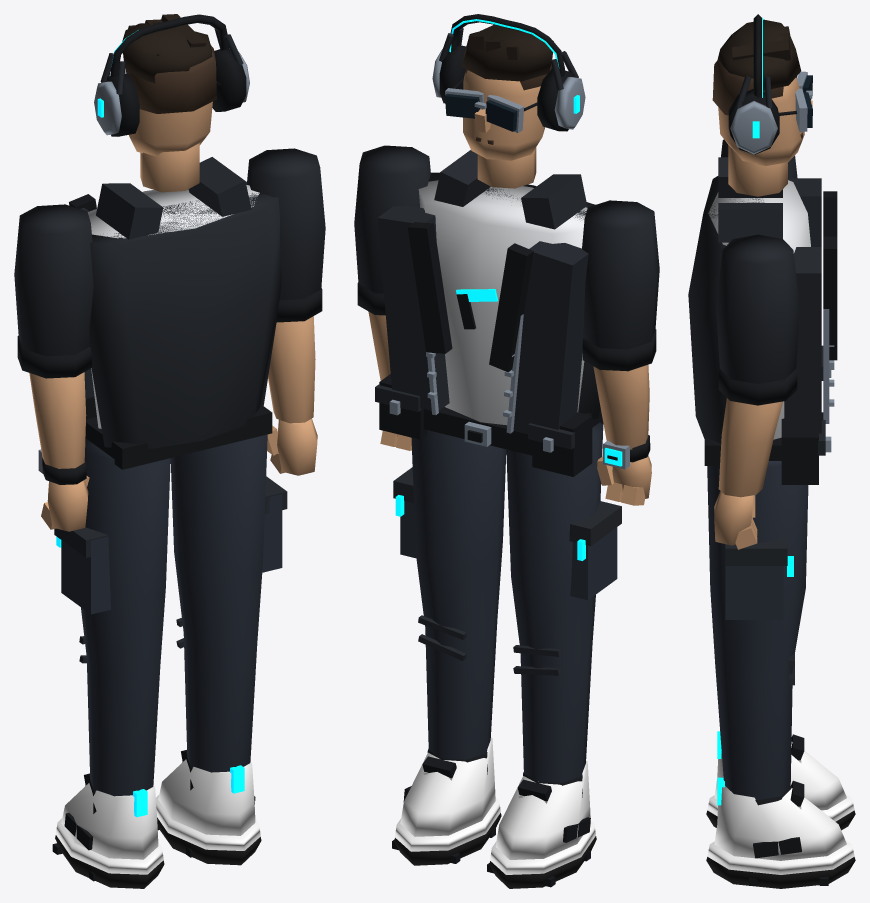
File: main-player.glb
3 views of the same model, side by side, from view 1: azimuth 30°, elevation 25°; view 2: azimuth 150°, elevation 25°; view 3: azimuth 270°, elevation 25° (orthographic). The views are drawn at different scales.
Visible parts, largest first — view 1: TaperedCargoJogger (×2), JacketBack, BomberSleeve (×2), HighTopSneaker (×2), DefinedForearm (×2), RaisedCollar (×2), ThighCargoPocket (×2), CurledHandPalm (×2), WhiteMidsole (×2), UndercutFade, SweptHairCrown, TacticalBelt (+10 smaller); view 2: TaperedCargoJogger (×2), OpenJacketFront (×2), BomberSleeve (×2), FittedTShirt, HighTopSneaker (×2), SculptedLapel (×2), DefinedForearm (×2), RaisedCollar (×2), SculptedFace, UtilityPouch (×2), WhiteMidsole (×2), SweptHairCrown (+14 smaller); view 3: TaperedCargoJogger, BomberSleeve, HighTopSneaker (×2), OpenJacketFront (×2), JacketBack, DefinedForearm, ThighCargoPocket, RaisedCollar (×2), WhiteMidsole (×2), SweptHairCrown, SculptedFace, FittedTShirt (+17 smaller).
Part boxes in pixels (bbox=[...]): TaperedCargoJogger (×2): bbox=[81, 434, 267, 796]; JacketBack: bbox=[89, 193, 281, 449]; BomberSleeve (×2): bbox=[14, 148, 325, 356]; HighTopSneaker (×2): bbox=[61, 759, 255, 859]; DefinedForearm (×2): bbox=[29, 316, 315, 468]; RaisedCollar (×2): bbox=[96, 157, 251, 239]; ThighCargoPocket (×2): bbox=[61, 494, 282, 614]; CurledHandPalm (×2): bbox=[47, 418, 317, 531]; WhiteMidsole (×2): bbox=[55, 795, 260, 874]; UndercutFade: bbox=[130, 45, 216, 113]; SweptHairCrown: bbox=[122, 22, 212, 83]; TacticalBelt: bbox=[85, 405, 272, 469]; TaperedCargoJogger (×2): bbox=[411, 422, 603, 782]; OpenJacketFront (×2): bbox=[377, 205, 588, 434]; BomberSleeve (×2): bbox=[354, 145, 659, 349]; FittedTShirt: bbox=[418, 180, 587, 425]; HighTopSneaker (×2): bbox=[400, 737, 590, 859]; SculptedLapel (×2): bbox=[407, 222, 533, 372]; DefinedForearm (×2): bbox=[368, 311, 649, 449]; RaisedCollar (×2): bbox=[434, 150, 587, 229]; SculptedFace: bbox=[463, 70, 544, 160]; UtilityPouch (×2): bbox=[379, 374, 592, 476]; WhiteMidsole (×2): bbox=[395, 797, 595, 874]; SweptHairCrown: bbox=[461, 27, 553, 81]; TaperedCargoJogger: bbox=[707, 461, 808, 799]; BomberSleeve: bbox=[716, 234, 799, 383]; HighTopSneaker (×2): bbox=[714, 742, 846, 860]; OpenJacketFront (×2): bbox=[784, 178, 821, 433]; JacketBack: bbox=[688, 176, 764, 443]; DefinedForearm: bbox=[718, 398, 782, 497]; ThighCargoPocket: bbox=[725, 566, 783, 619]; RaisedCollar (×2): bbox=[718, 157, 782, 242]; WhiteMidsole (×2): bbox=[707, 794, 854, 874]; SweptHairCrown: bbox=[717, 19, 801, 90]; SculptedFace: bbox=[718, 77, 804, 165]; FittedTShirt: bbox=[708, 180, 810, 439].
Size of the model in its own units: 0.686 by 1.82 by 0.336.
